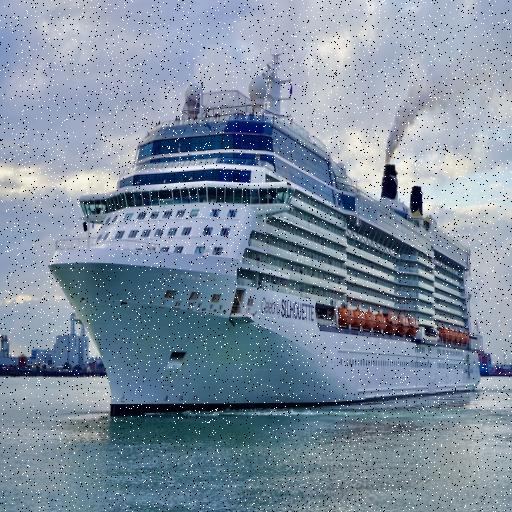cruises: (41, 40, 493, 430)
